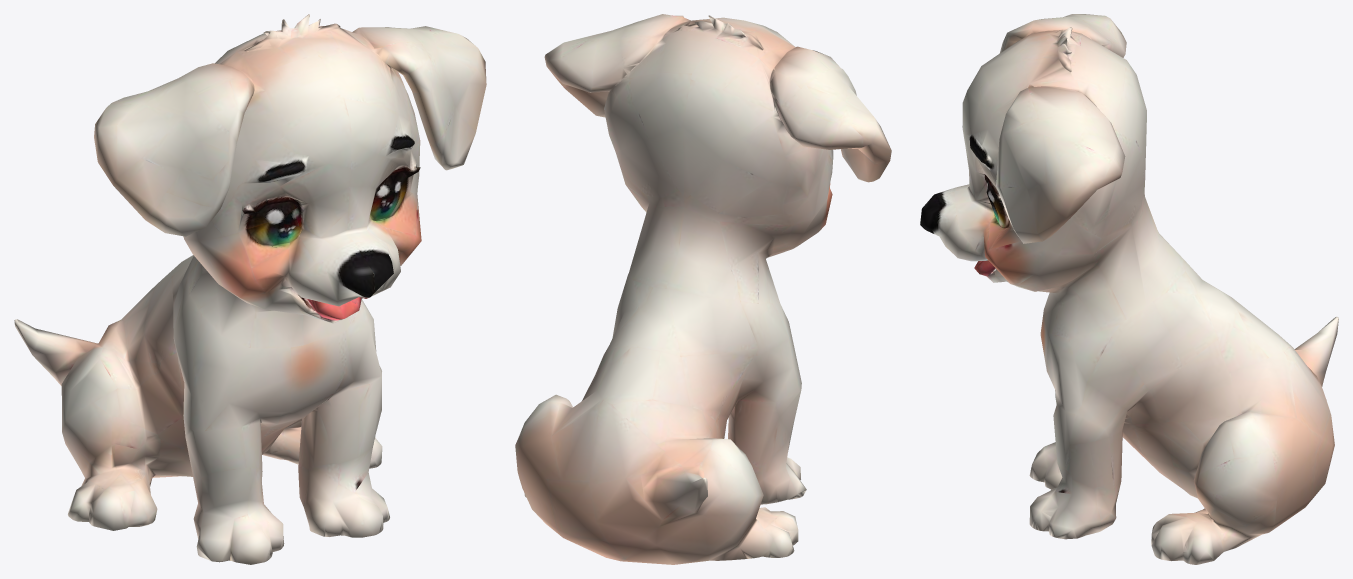
The model's file is chiot.glb.
3 views of the same model, side by side, from view 1: azimuth 30°, elevation 25°; view 2: azimuth 150°, elevation 25°; view 3: azimuth 270°, elevation 25° (orthographic). The views are drawn at different scales.
Size of the model in its own units: 1.49 by 1.9 by 1.54.
Materials: 1 (1 with a texture image).
